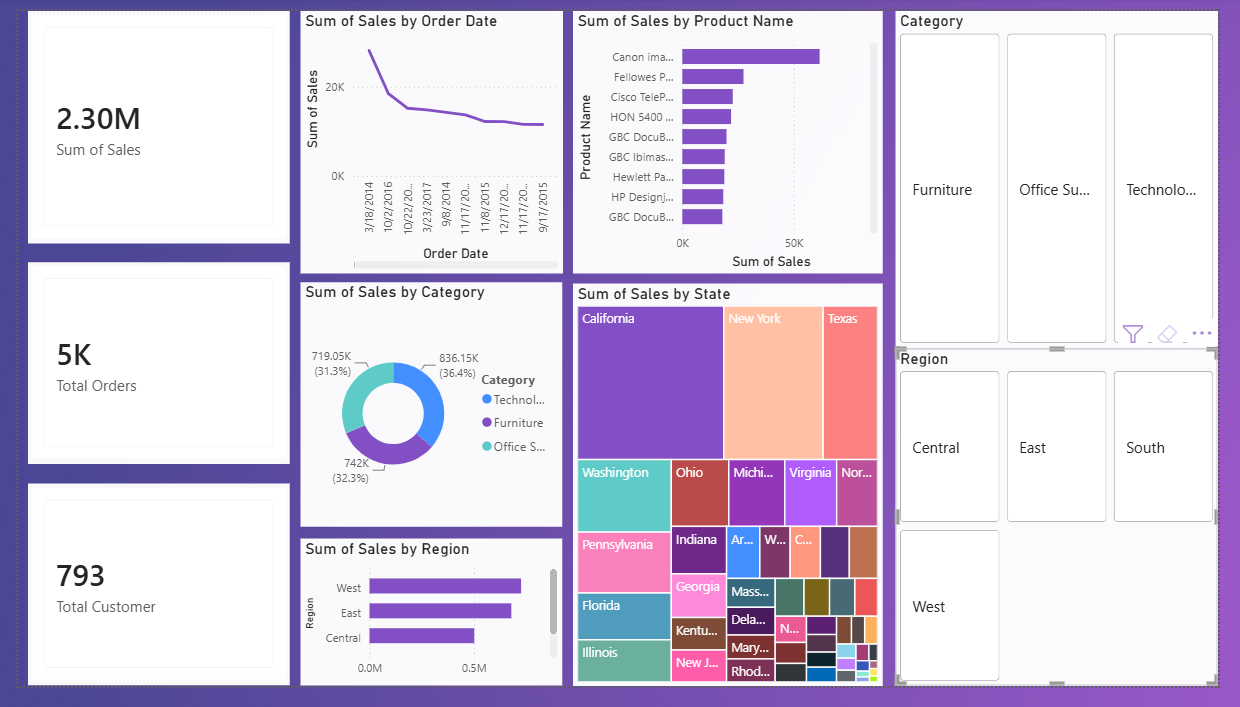

This screenshot's page, from the dashboard's own definition file:
{"tool":"powerbi","page":{"name":"Page 1","canvas":[1280,720],"ordinal":0},"visuals":[{"type":"cardVisual","fields":{"Data":["Sum(Sample - Superstore1.Sales)","Sum(Sample - Superstore1.Sales)"]},"box":[10.4,0,279.1,247.8],"z":0},{"type":"cardVisual","fields":{"Data":["Sample - Superstore1.Total Orders"]},"box":[10.4,268.7,279.1,214.9],"z":1000},{"type":"cardVisual","fields":{"Data":["Sample - Superstore1.Total Customer"]},"box":[10.4,504.5,279.1,214.9],"z":2000},{"type":"lineChart","fields":{"Category":["Sample - Superstore1.Order Date"],"Y":["Sum(Sample - Superstore1.Sales)"]},"box":[301,0,280,280],"z":3000},{"type":"donutChart","fields":{"Category":["Sample - Superstore1.Category"],"Y":["Sum(Sample - Superstore1.Sales)"]},"box":[301.5,289.6,279.1,261.2],"z":3001},{"type":"clusteredBarChart","fields":{"Category":["Sample - Superstore1.Region"],"Y":["Sum(Sample - Superstore1.Sales)"]},"box":[301.5,562.7,279.1,156.7],"z":3002},{"type":"clusteredBarChart","fields":{"Category":["Sample - Superstore1.Product Name"],"Y":["Sum(Sample - Superstore1.Sales)"]},"box":[591.4,0,330,280],"z":3003},{"type":"treemap","fields":{"Group":["Sample - Superstore1.State"],"Values":["Sum(Sample - Superstore1.Sales)"]},"box":[591.4,290,330,430],"z":3004},{"type":"advancedSlicerVisual","fields":{"Values":["Sample - Superstore1.Region"]},"box":[935.7,360,344.3,360],"z":3005},{"type":"advancedSlicerVisual","fields":{"Values":["Sample - Superstore1.Category"]},"box":[935.7,0,344.3,360],"z":3006}]}

Visuals, with their boxes in screenshot pixels (x1, y1, x2, y2), scaled from the page's 1280x720 canvas onto the 1240x707 screenshot:
cardVisual - Sum(Sample - Superstore1.Sales) x Sum(Sample - Superstore1.Sales): (10,0,280,243)
cardVisual - Sample - Superstore1.Total Orders: (10,264,280,475)
cardVisual - Sample - Superstore1.Total Customer: (10,495,280,706)
lineChart - Sample - Superstore1.Order Date x Sum(Sample - Superstore1.Sales): (292,0,563,275)
donutChart - Sample - Superstore1.Category x Sum(Sample - Superstore1.Sales): (292,284,562,541)
clusteredBarChart - Sample - Superstore1.Region x Sum(Sample - Superstore1.Sales): (292,553,562,706)
clusteredBarChart - Sample - Superstore1.Product Name x Sum(Sample - Superstore1.Sales): (573,0,893,275)
treemap - Sample - Superstore1.State x Sum(Sample - Superstore1.Sales): (573,285,893,706)
advancedSlicerVisual - Sample - Superstore1.Region: (906,354,1239,706)
advancedSlicerVisual - Sample - Superstore1.Category: (906,0,1239,354)
